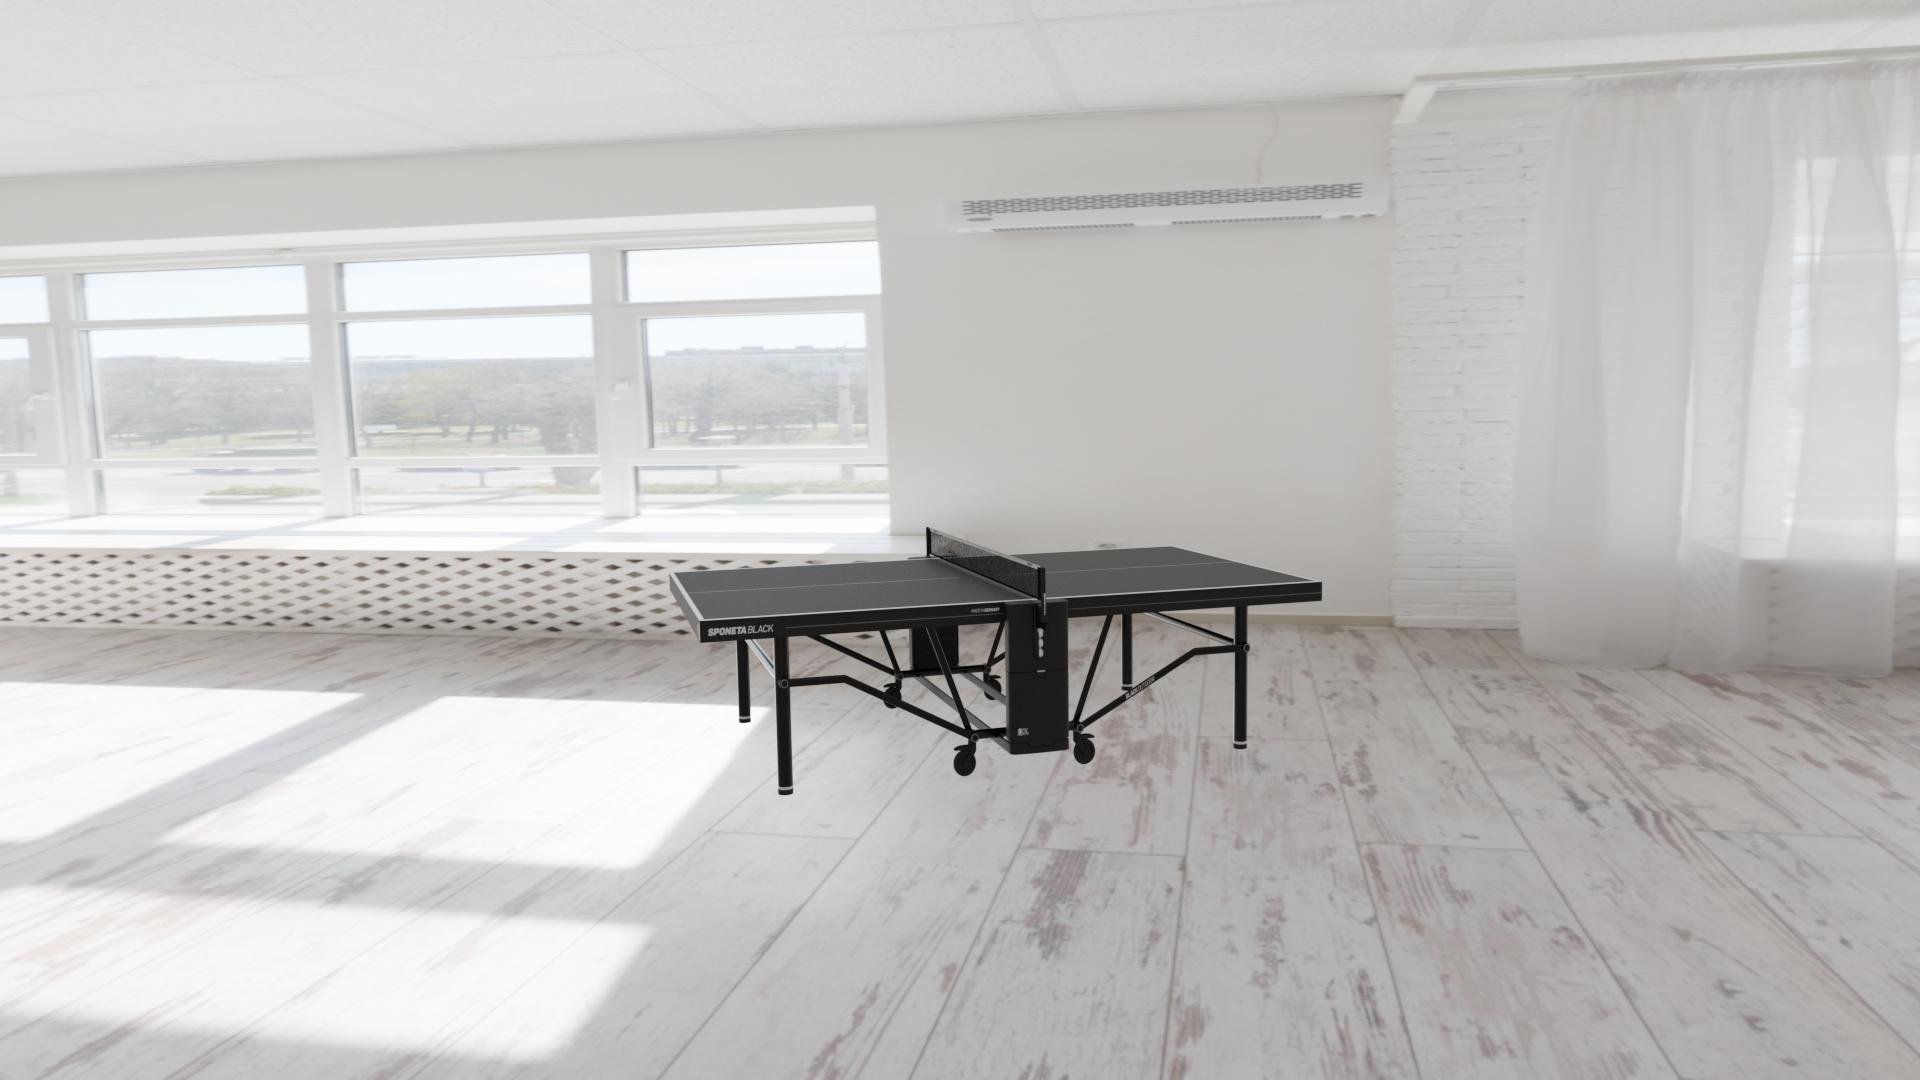table: (674, 546, 1316, 620)
